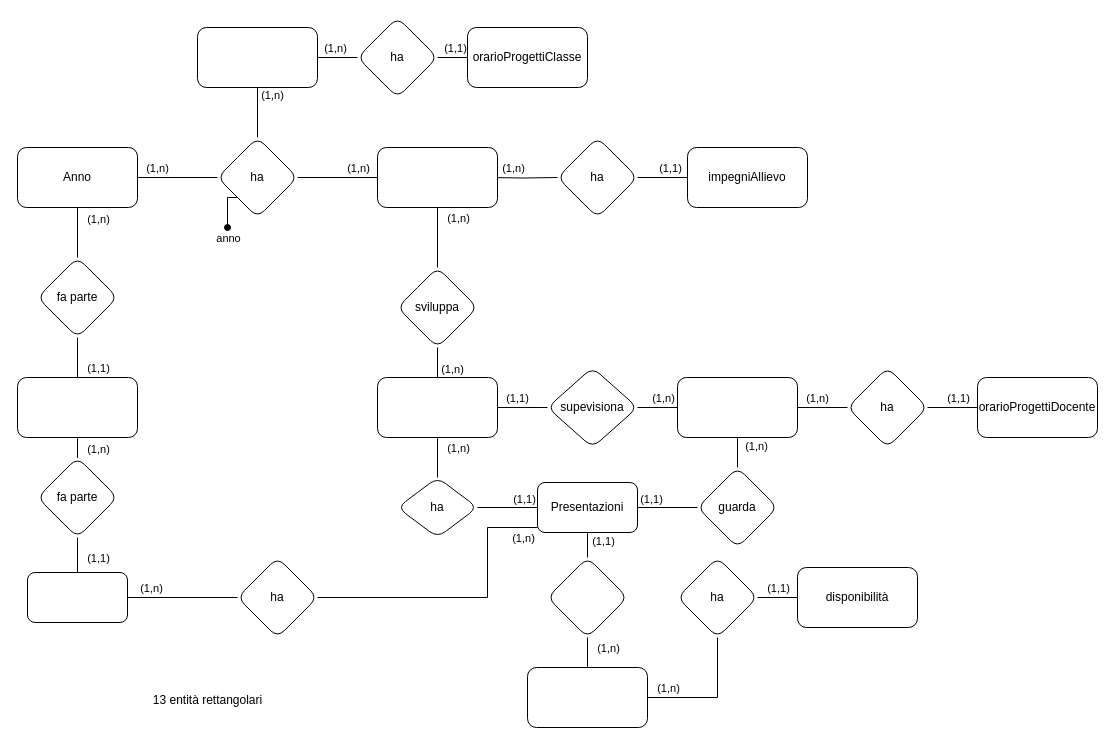
Some shapes in this 1115 by 745 pixel diagram are drawn without their labels. Each missing label, with the centre of its shape:
"Allievo" belongs at [437,177].
"aule" belongs at [587,697].
"avviene" belongs at [587,597].
"Classe" belongs at [257,57].
"docente" belongs at [737,407].
"Pianificazione" belongs at [77,597].
"Progetto" belongs at [437,407].
"Sessione" belongs at [77,407].
